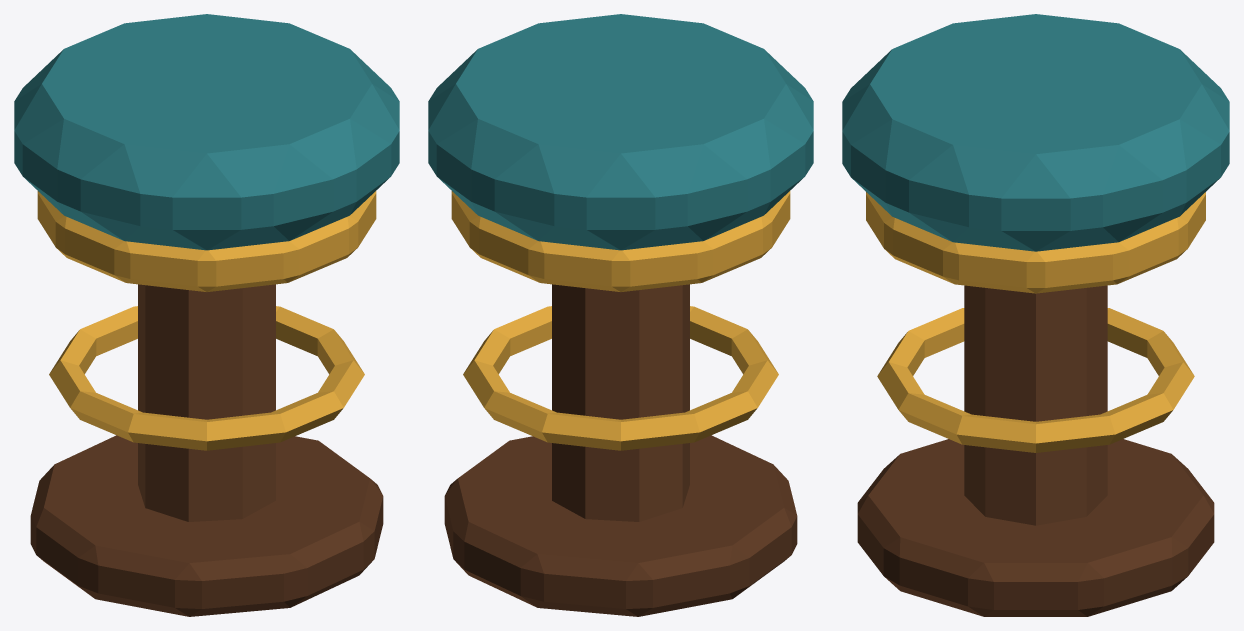
Rendered from roulette_stool.glb.
The picture shows the model from 3 angles, left to right: view 1: azimuth 30°, elevation 25°; view 2: azimuth 150°, elevation 25°; view 3: azimuth 270°, elevation 25°; orthographic projection.
Parts seen in each view (by area): view 1: roulette_stool; view 2: roulette_stool; view 3: roulette_stool.
Part boxes in pixels (left/top/right/bottom): roulette_stool: left=14, top=14, right=399, bottom=616; roulette_stool: left=428, top=14, right=813, bottom=616; roulette_stool: left=842, top=14, right=1229, bottom=616.
Size of the model in its own units: 0.3245 by 0.43 by 0.3245.
